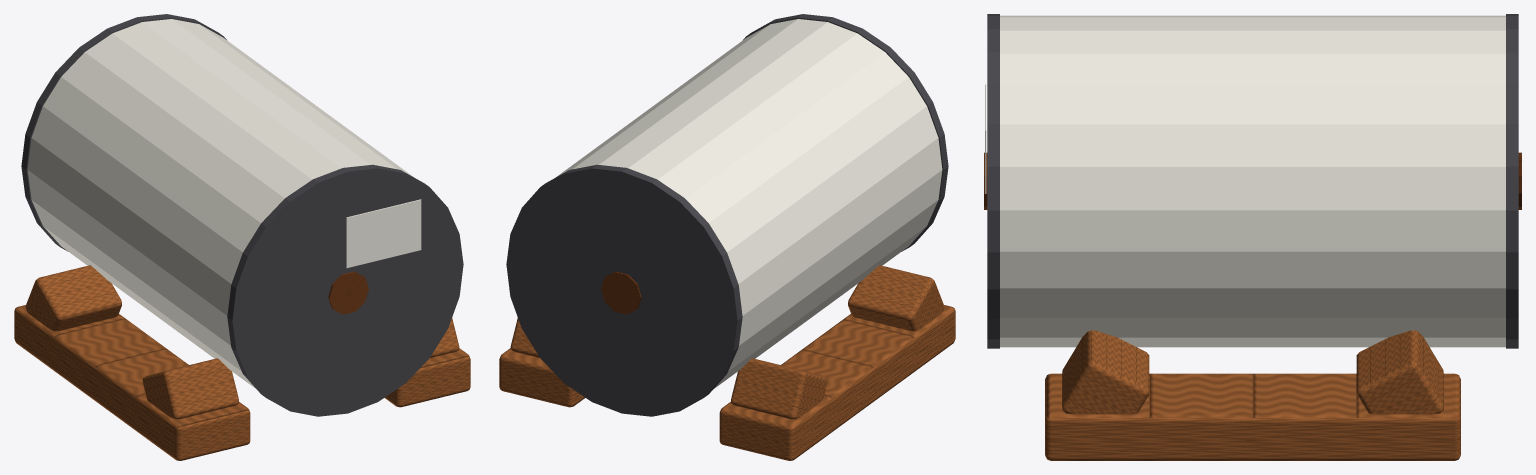
The model's file is printing-press-and-newspaper-office-paper-reel-eda9032c__37726.glb.
The picture shows the model from 3 angles, left to right: view 1: azimuth 30°, elevation 25°; view 2: azimuth 150°, elevation 25°; view 3: azimuth 270°, elevation 25°; orthographic projection. The views are drawn at different scales.
Parts seen in each view (by area): view 1: paper-reel; view 2: paper-reel; view 3: paper-reel.
Boxes of the visible parts, bbox=[...] form: paper-reel: bbox=[14, 14, 470, 460]; paper-reel: bbox=[499, 14, 955, 460]; paper-reel: bbox=[984, 14, 1521, 460].
Bounding box in the file's own units: 1.34 × 1.19 × 1.68.
Materials: 4 (2 with a texture image).
